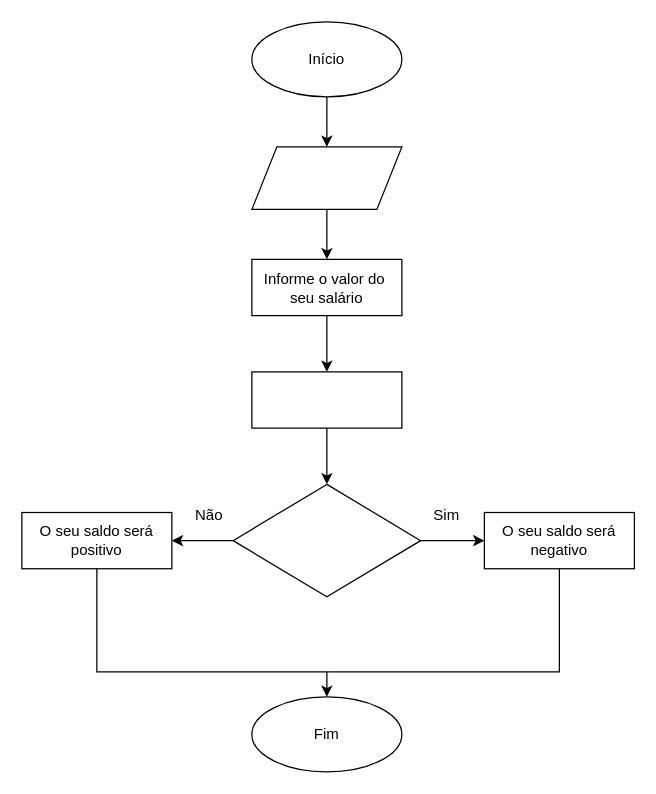
Image size: 656x794. Some labels were removed from this diagram. The centre of each missing label's shape, as x and y in pixels:
"Informe o seu gasto mensal" belongs at (x=326, y=399).
"O valor do salário é menor que o gasto mensal?" belongs at (x=326, y=540).
"salario, gasto" belongs at (x=326, y=177).
